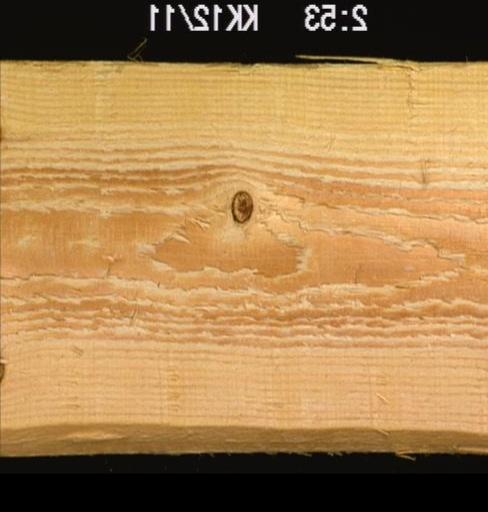dry_knot: (229, 187, 256, 223)
wave: (0, 417, 486, 458)
